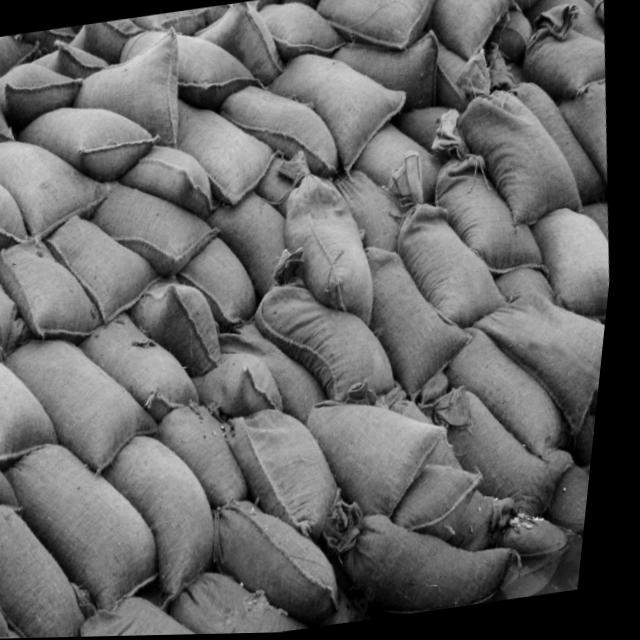sack: (2, 430, 185, 625), (322, 477, 540, 627), (373, 139, 528, 340), (443, 34, 601, 227), (246, 233, 416, 412), (0, 323, 179, 485), (419, 97, 569, 286), (100, 425, 242, 608), (267, 140, 397, 337), (431, 375, 584, 534), (469, 283, 616, 448), (303, 385, 465, 532), (359, 233, 494, 406), (261, 40, 421, 182), (219, 398, 364, 552), (214, 487, 364, 635), (442, 317, 584, 470), (481, 59, 620, 214), (77, 302, 218, 430), (88, 167, 234, 286), (41, 204, 173, 334), (0, 491, 111, 640), (66, 27, 192, 156), (215, 74, 349, 187), (168, 87, 287, 214), (15, 94, 165, 193), (217, 312, 341, 431), (0, 127, 121, 246), (0, 226, 115, 347), (115, 14, 268, 103), (128, 270, 238, 385), (159, 396, 266, 514), (204, 188, 303, 310), (175, 558, 320, 636), (328, 31, 447, 125), (529, 205, 622, 320), (514, 0, 615, 102), (0, 336, 76, 463), (185, 0, 291, 90), (180, 233, 271, 333), (398, 458, 500, 547), (118, 137, 221, 225), (192, 345, 297, 425), (311, 0, 451, 60), (354, 120, 448, 203), (334, 165, 414, 259), (90, 585, 226, 638), (0, 54, 90, 127), (256, 0, 345, 67), (426, 0, 520, 63), (0, 238, 41, 364), (0, 157, 39, 250), (0, 72, 23, 153)
